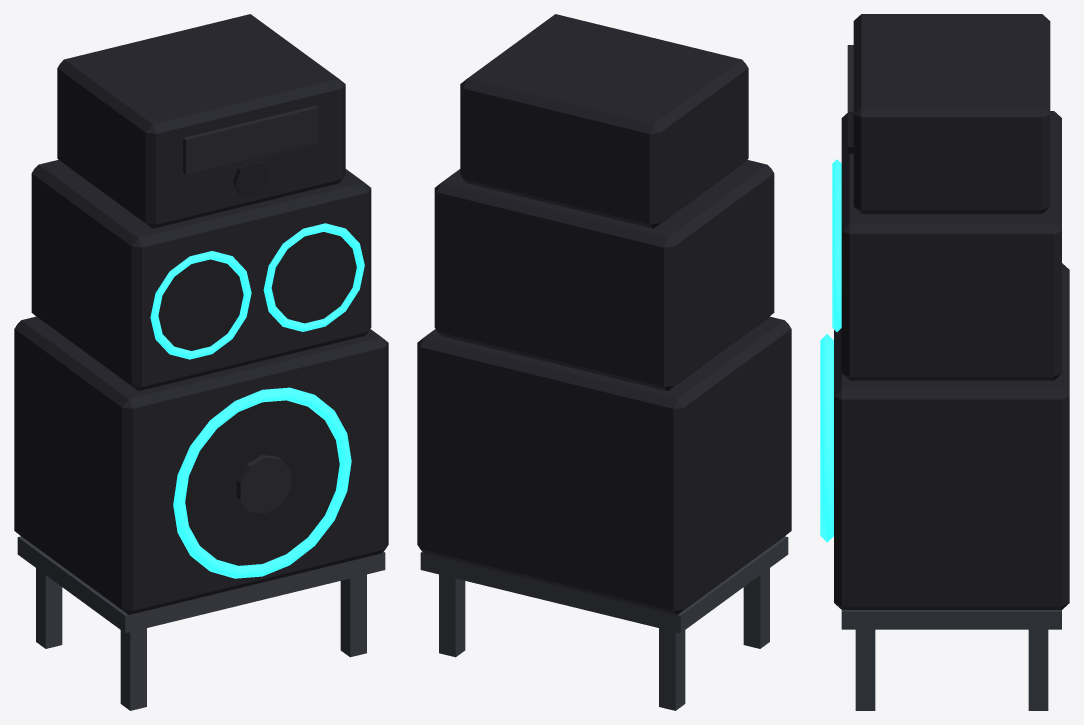
Rendered from speaker_stack.glb.
3 renders of one model, left to right at view 1: azimuth 30°, elevation 25°; view 2: azimuth 150°, elevation 25°; view 3: azimuth 270°, elevation 25°, orthographic. The views are drawn at different scales.
Visible parts, largest first — view 1: speaker_stack; view 2: speaker_stack; view 3: speaker_stack.
Part boxes in pixels (left/top/right/bottom): speaker_stack: left=14, top=14, right=388, bottom=710; speaker_stack: left=417, top=14, right=791, bottom=710; speaker_stack: left=820, top=14, right=1069, bottom=710.
Bounding box in the file's own units: 0.8 × 1.66 × 0.635.
